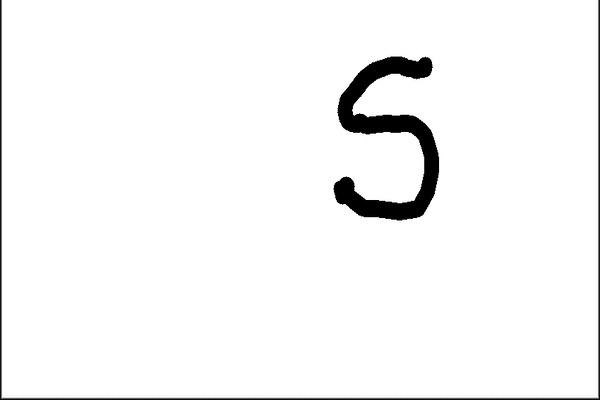S: (322, 41, 449, 229)
